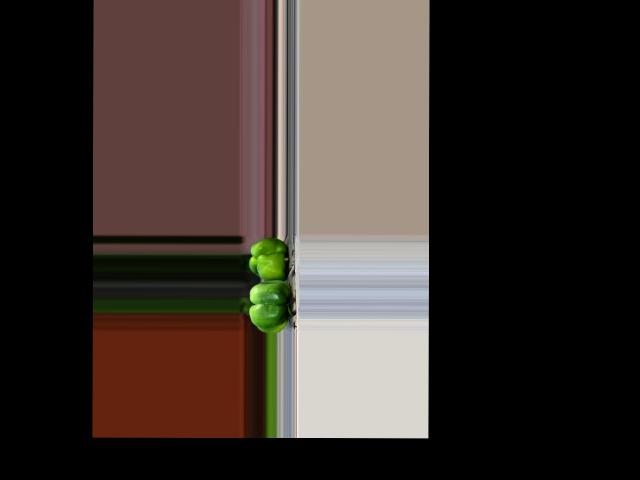bell_pepper: (247, 236, 291, 281)
